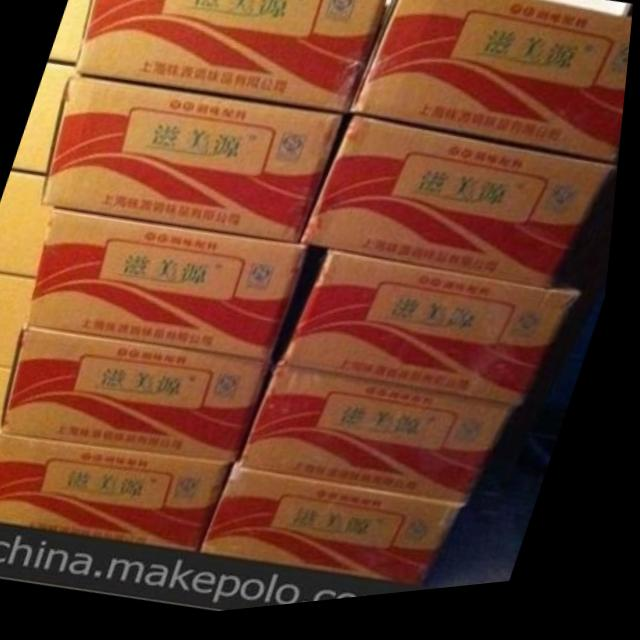box: (304, 120, 620, 301), (44, 77, 350, 250), (285, 255, 585, 420), (353, 0, 634, 175), (29, 208, 309, 365), (248, 371, 526, 514), (75, 0, 389, 122), (3, 331, 280, 467), (210, 470, 476, 594), (0, 434, 246, 554), (15, 62, 76, 174), (0, 172, 57, 278), (0, 275, 40, 368), (49, 0, 92, 65), (0, 366, 20, 437)
